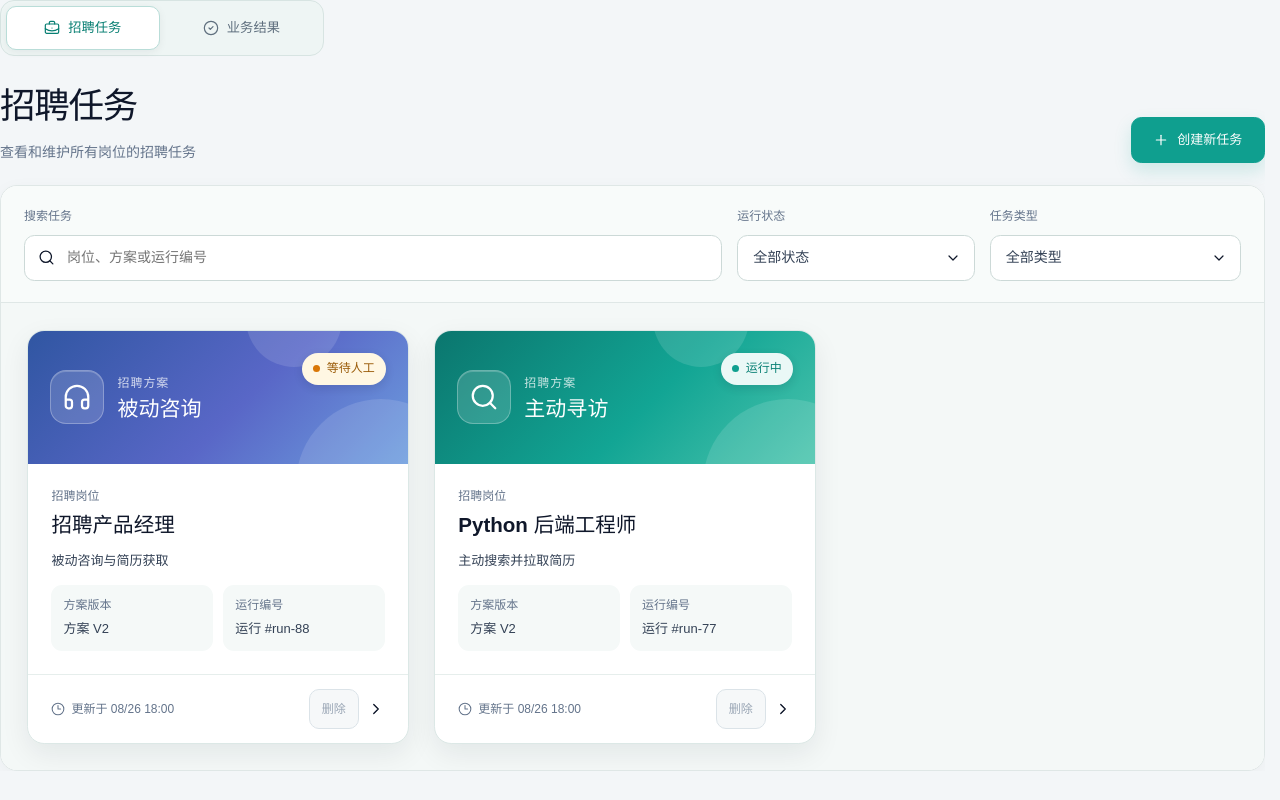
Test: RecruitmentTasksView › opens the selected two-column task execution card from the whole task card
Expected: the element with class "tasks-card__cover" showing "招聘方案 被动咨询 等待人工" is shown, [28,330,408,464]
Click the list item with test id "task-row-run-77": [625, 537] box [434,330,816,744]
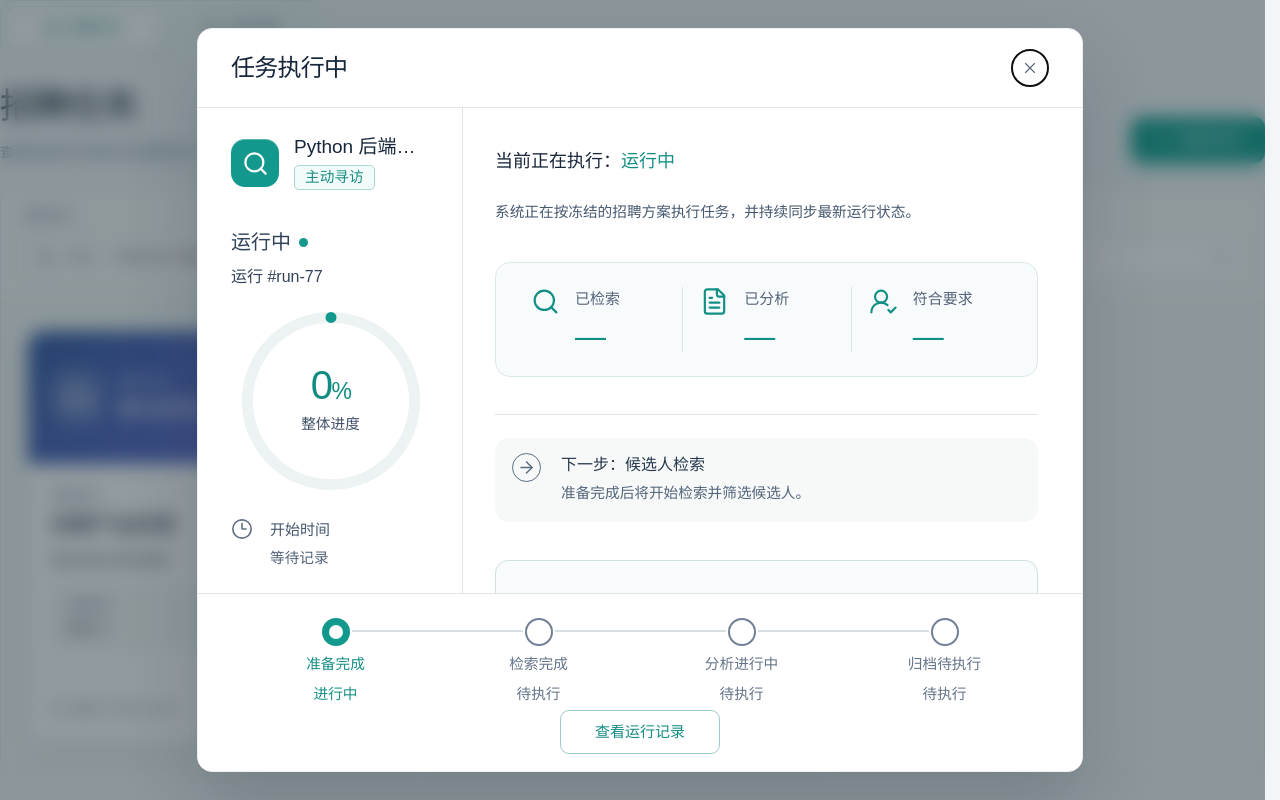
Expected: the element with test id "task-execution-report" shows "当前正在执行", [495,151,621,171]
Expected: the element with test id "task-execution-report" shows "运行中", [231,231,291,253]
